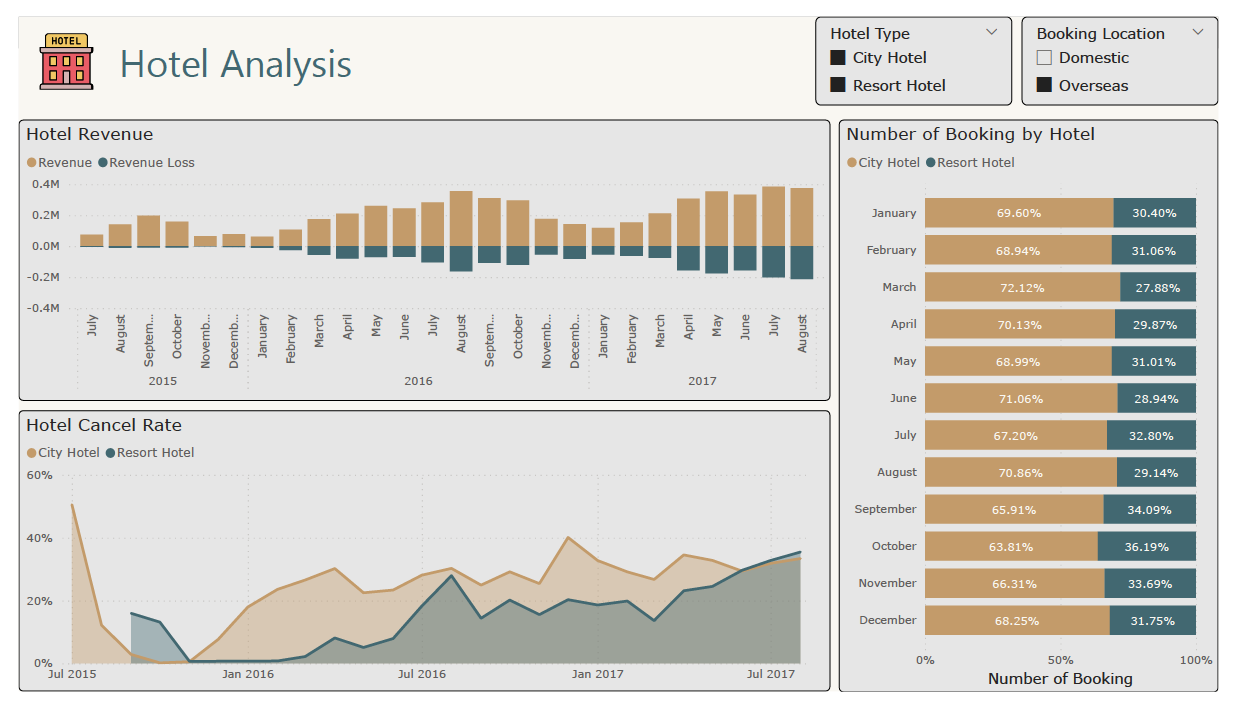

The page's visual inventory and layout, read from the dashboard file:
{"tool":"powerbi","page":{"name":"Hotel Analysis","canvas":[1280,720],"ordinal":1},"visuals":[{"type":"areaChart","title":"Hotel Cancel Rate","fields":{"Category":["hotel_booking_cleaned.arrival_date.Variation.Date Hierarchy.Year","hotel_booking_cleaned.arrival_date.Variation.Date Hierarchy.Month"],"Y":["measure_groups.cancel_rate"],"Series":["hotel_booking_cleaned.hotel"]},"box":[0,420,865.6,300],"z":0},{"type":"columnChart","title":"Hotel Revenue","fields":{"Y":["measure_groups.revenue","measure_groups.revenue_loss"],"Category":["hotel_booking_cleaned.arrival_date.Variation.Date Hierarchy.Year","hotel_booking_cleaned.arrival_date.Variation.Date Hierarchy.Month"]},"box":[0,110,865.6,300],"z":1000},{"type":"shape","box":[0,0,363.4,96.1],"z":2000},{"type":"image","box":[16,12.3,70.2,70.2],"z":3000},{"type":"hundredPercentStackedBarChart","title":"Number of Booking by Hotel","fields":{"Y":["measure_groups.booking_count"],"Category":["hotel_booking_cleaned.arrival_date.Variation.Date Hierarchy.Month"],"Series":["hotel_booking_cleaned.hotel"]},"box":[874.5,109.6,405.2,610.9],"z":4000},{"type":"slicer","fields":{"Values":["hotel_booking_cleaned.booking_location"]},"box":[1070,0,209.7,95.4],"z":5000},{"type":"slicer","fields":{"Values":["hotel_booking_cleaned.hotel"]},"box":[850.2,0,209.7,95.4],"z":6000}]}

Visuals, with their boxes in screenshot pixels (x1, y1, x2, y2), scaled from the page's 1280x720 canvas onto the 1237x710 screenshot:
"Hotel Cancel Rate" areaChart: [x1=0, y1=414, x2=837, y2=709]
"Hotel Revenue" columnChart: [x1=0, y1=108, x2=837, y2=404]
shape: [x1=0, y1=0, x2=351, y2=95]
image: [x1=15, y1=12, x2=83, y2=81]
"Number of Booking by Hotel" hundredPercentStackedBarChart: [x1=845, y1=108, x2=1236, y2=709]
slicer - hotel_booking_cleaned.booking_location: [x1=1034, y1=0, x2=1236, y2=94]
slicer - hotel_booking_cleaned.hotel: [x1=822, y1=0, x2=1024, y2=94]
